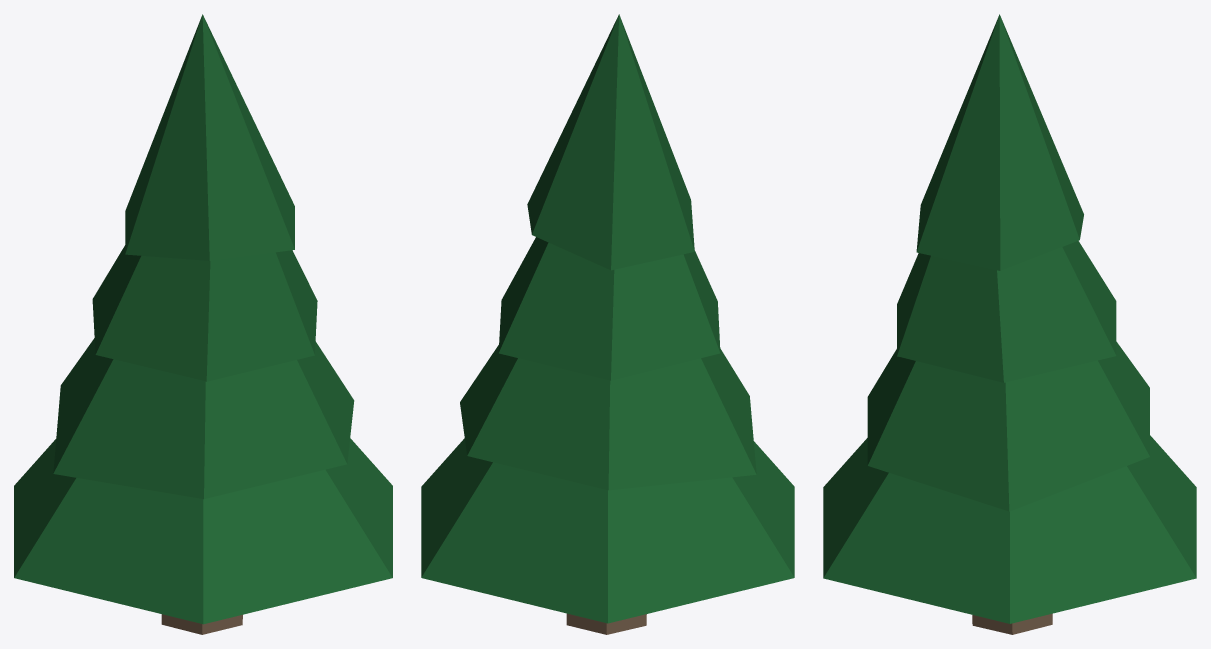
The model's file is Tree4.fbx.
The picture shows the model from 3 angles, left to right: view 1: azimuth 30°, elevation 25°; view 2: azimuth 150°, elevation 25°; view 3: azimuth 270°, elevation 25°; orthographic projection.
Parts seen in each view (by area): view 1: Prop_Tree_Pine_2_11; view 2: Prop_Tree_Pine_2_11; view 3: Prop_Tree_Pine_2_11.
Boxes of the visible parts, x1=… form: Prop_Tree_Pine_2_11: x1=14, y1=14, x2=392, y2=634; Prop_Tree_Pine_2_11: x1=421, y1=14, x2=794, y2=634; Prop_Tree_Pine_2_11: x1=823, y1=14, x2=1196, y2=634.
Size of the model in its own units: 26 by 39.85 by 22.52.
